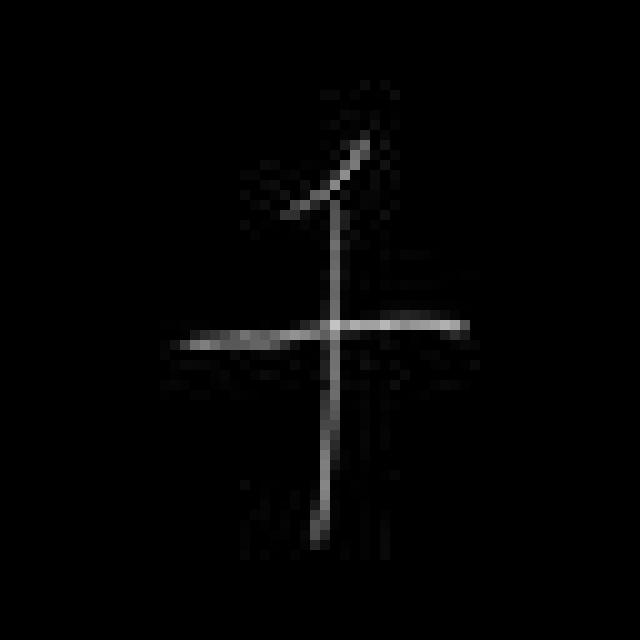1000 -a thousand-: (172, 130, 478, 550)
